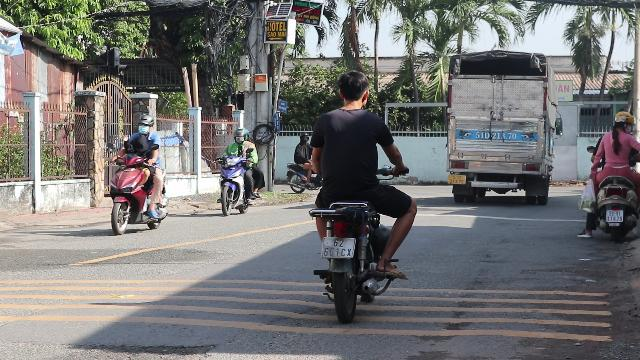helmet: (613, 112, 635, 134), (136, 114, 154, 134), (232, 127, 248, 143)
licenseplate: (322, 237, 353, 257), (606, 210, 622, 222)
motorcyclist: (302, 69, 418, 319), (578, 109, 640, 241), (105, 113, 169, 235), (216, 126, 264, 214)
nohelmet: (335, 70, 371, 109)
